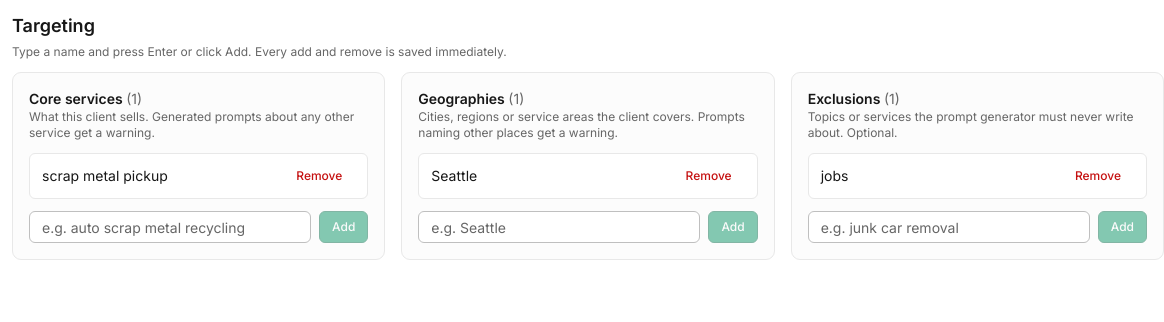
Scenario: ClientTargetingSection › adds an item immediately, shows it, and sends the full client record
Type "auto scrap metal recycling" into the field named "New core service". click: (170, 227)
box: [29,211,311,243]
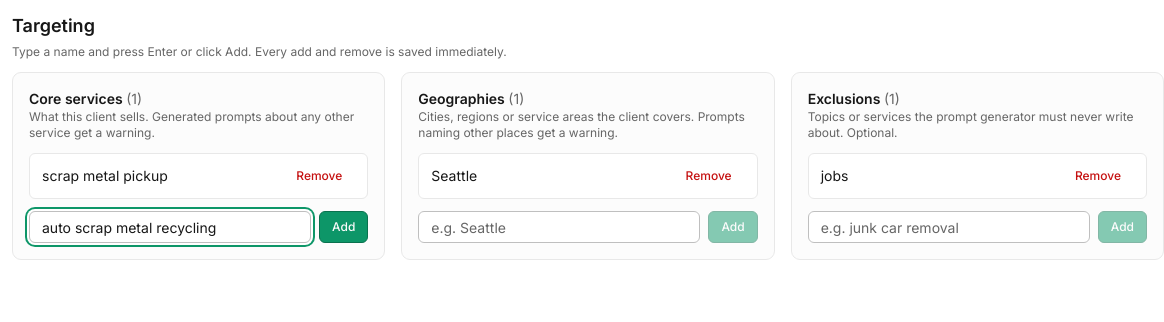
Click the button with aria-label "Add core service". click: (344, 227)
box: [319,211,368,243]
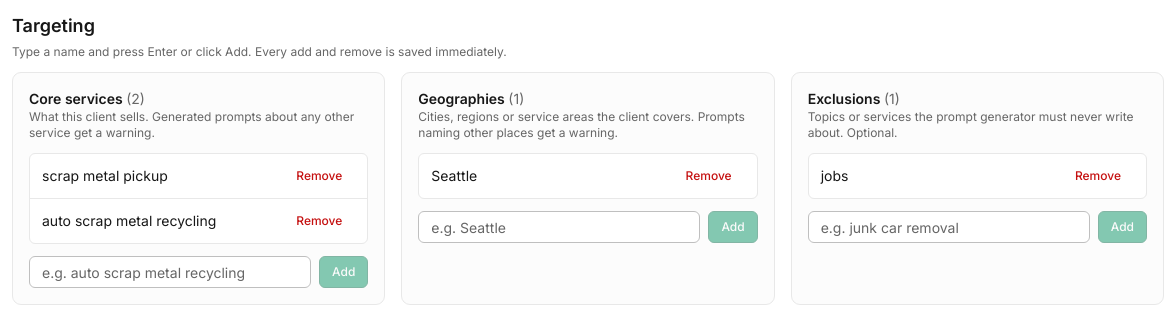
Now the text "auto scrap metal recycling" is shown, box [42,211,216,231]
Now the field named "New core service" is empty, box [29,256,311,288]
